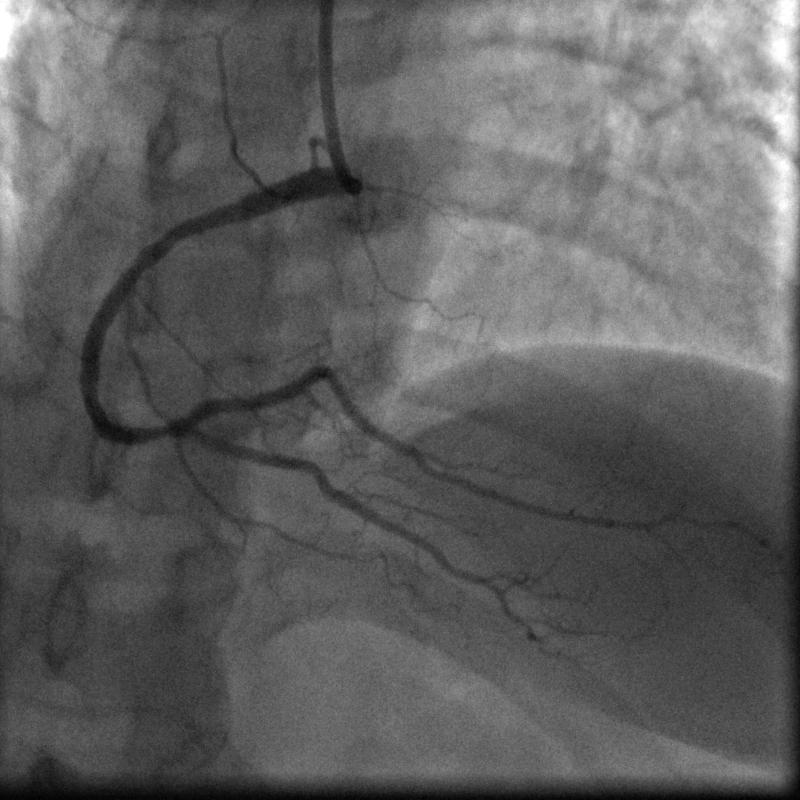Stenosis: (144, 418, 181, 441)
